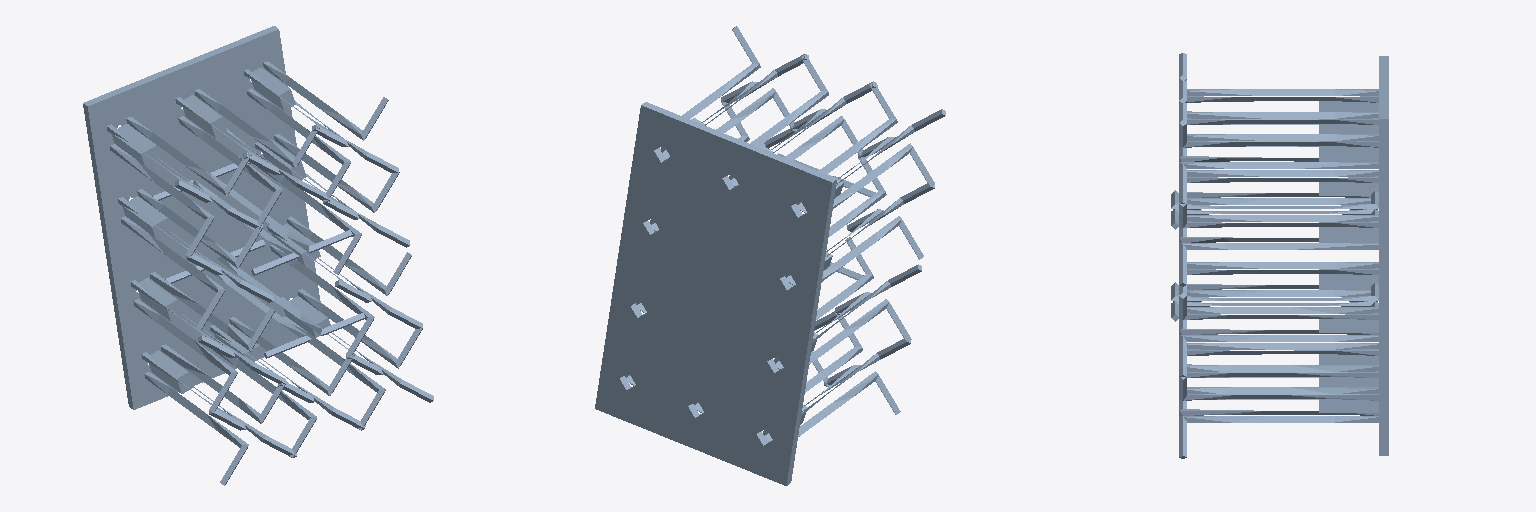
3 renders of one model, left to right at view 1: azimuth 30°, elevation 25°; view 2: azimuth 150°, elevation 25°; view 3: azimuth 270°, elevation 25°, orthographic.
Visible parts, largest first — view 1: g[number redacted]_1; view 2: g[number redacted]_1; view 3: g[number redacted]_1.
Part boxes in pixels (x1,y1,x2,y2): g[number redacted]_1: (83,26,433,485); g[number redacted]_1: (595,26,945,485); g[number redacted]_1: (1171,53,1388,458).
Size of the model in its own units: 74.89 by 96.66 by 54.4.